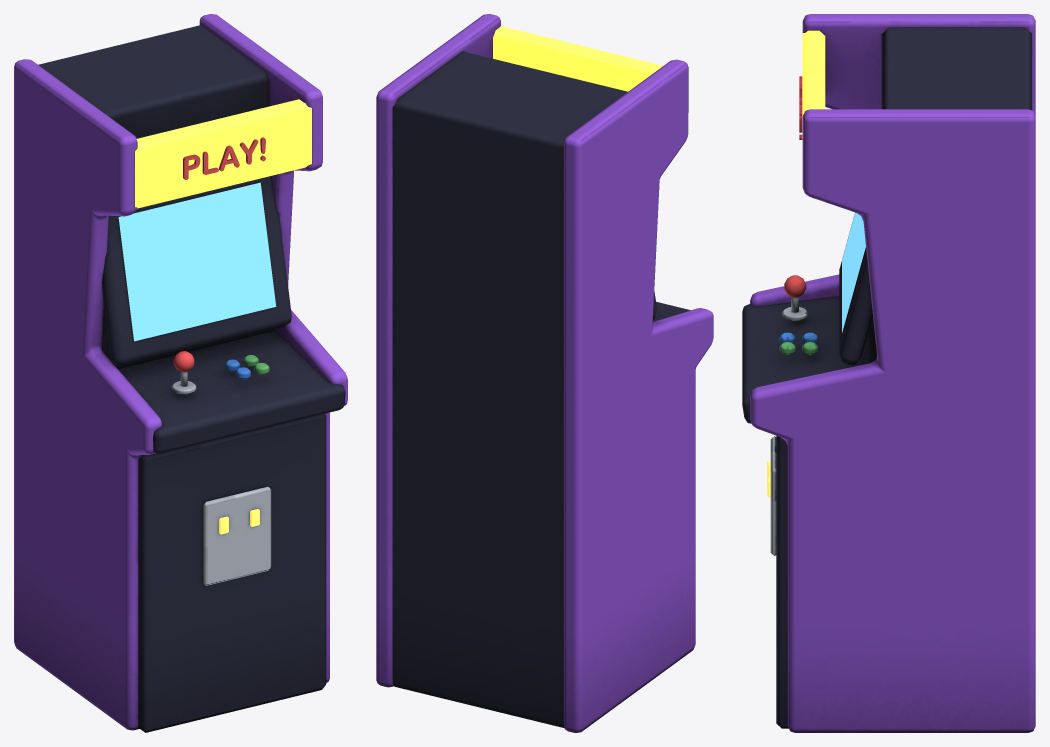
Rendered from arcade_cabinet.glb.
3 views of the same model, side by side, from view 1: azimuth 30°, elevation 25°; view 2: azimuth 150°, elevation 25°; view 3: azimuth 270°, elevation 25° (orthographic). The views are drawn at different scales.
Parts seen in each view (by area): view 1: arcade_cabinet; view 2: arcade_cabinet; view 3: arcade_cabinet.
Part boxes in pixels (x1,y1,x2,y2): arcade_cabinet: (14,14,347,732); arcade_cabinet: (376,14,713,732); arcade_cabinet: (742,14,1035,732).
Bounding box in the file's own units: 0.66 × 1.82 × 0.781.
10 materials, 7 textured.
